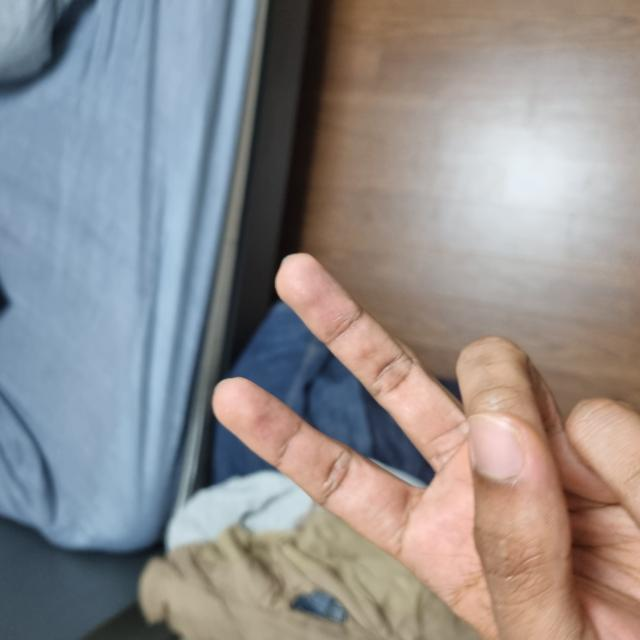Scissors: (0, 219, 378, 639)
